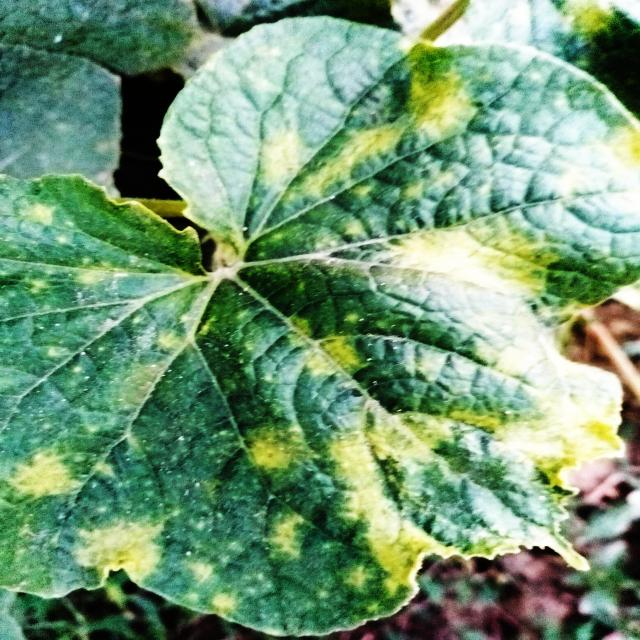Downy-Mildew: (1, 13, 640, 640)
